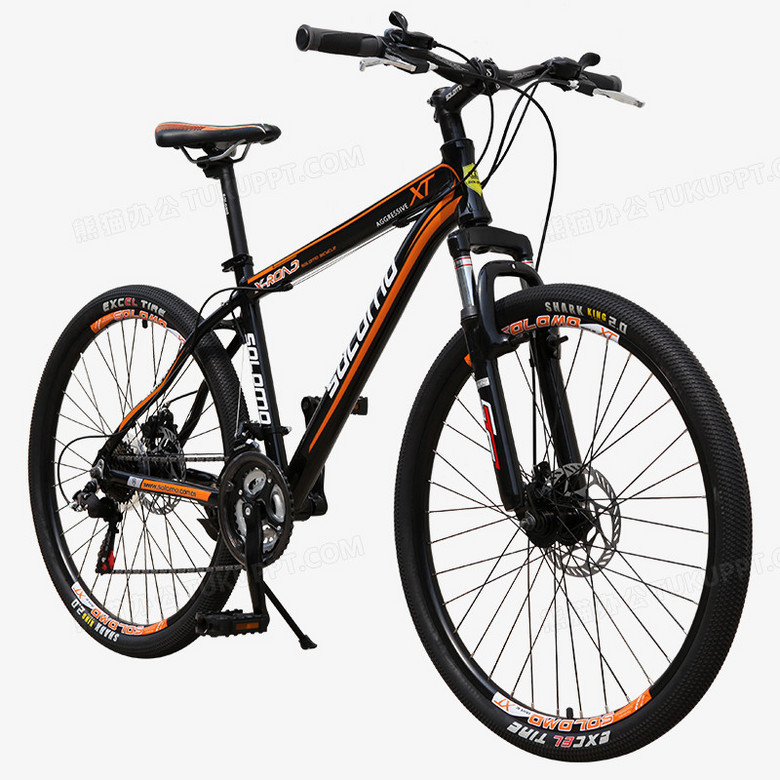MNV: (27, 12, 751, 762)
